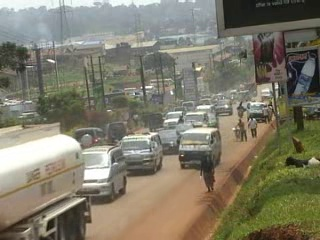Car: (79, 142, 131, 206), (70, 126, 106, 152), (104, 118, 136, 145), (155, 128, 180, 154), (160, 110, 185, 130), (213, 98, 234, 118), (172, 121, 195, 137), (192, 102, 215, 117), (204, 112, 219, 131)
Motorcycle: (236, 101, 245, 121), (173, 112, 185, 127)
